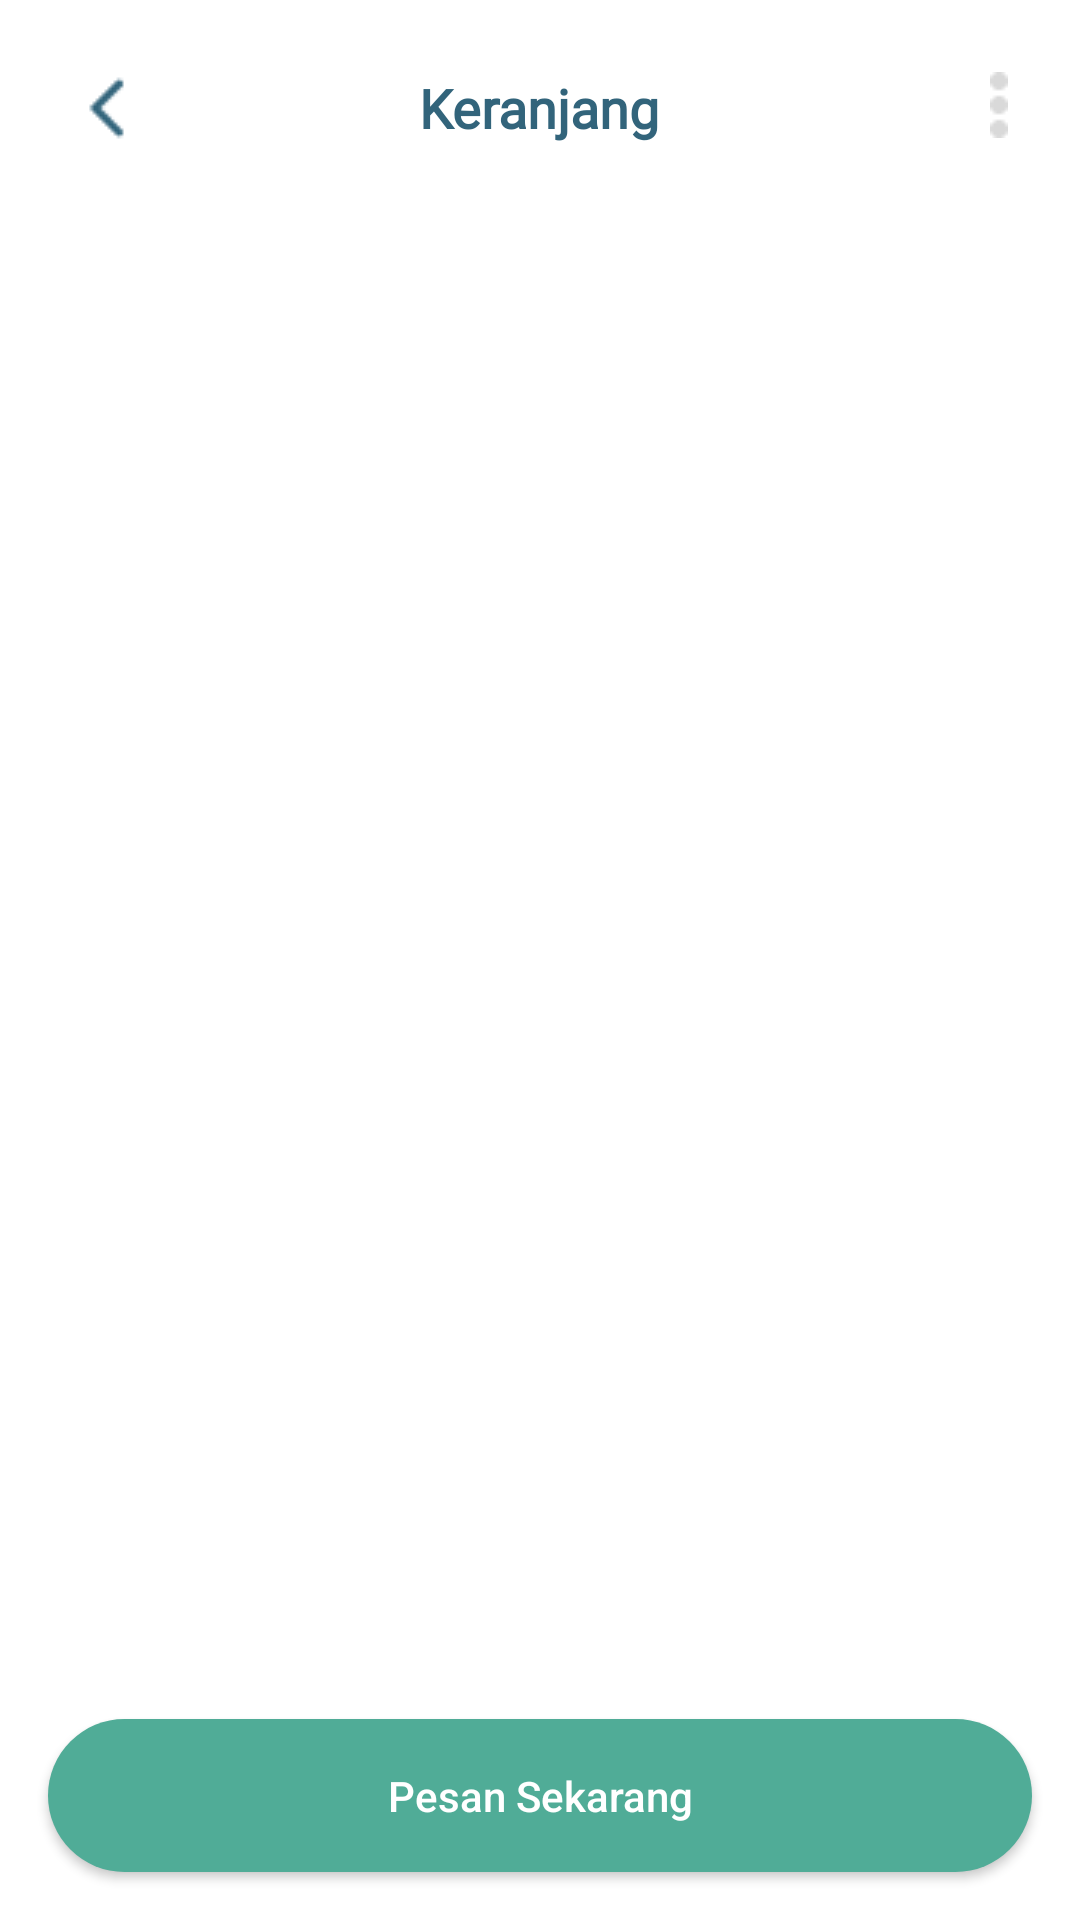

Icon bounding boxes for this 1080×1920 phone screenshot, format [x1=x1, y1=y1, x2=x2, y2=y2]:
back: [x1=89, y1=78, x2=124, y2=138]
three dot: [x1=990, y1=72, x2=1008, y2=138]
